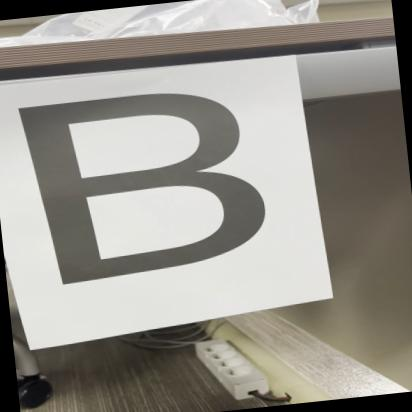seat: (8, 73, 304, 298)
